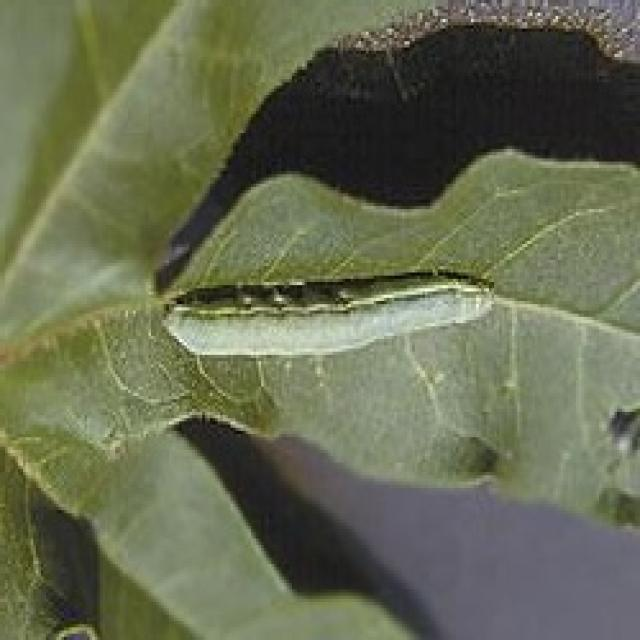army worm: (153, 285, 494, 370)
